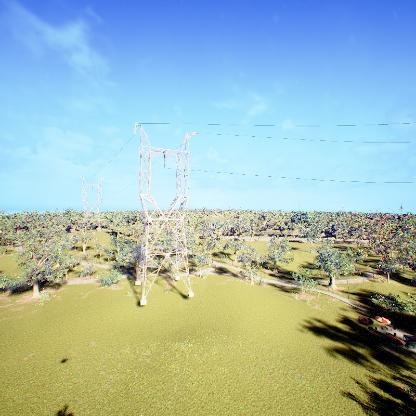tower: (133, 117, 199, 306), (80, 174, 105, 235)
